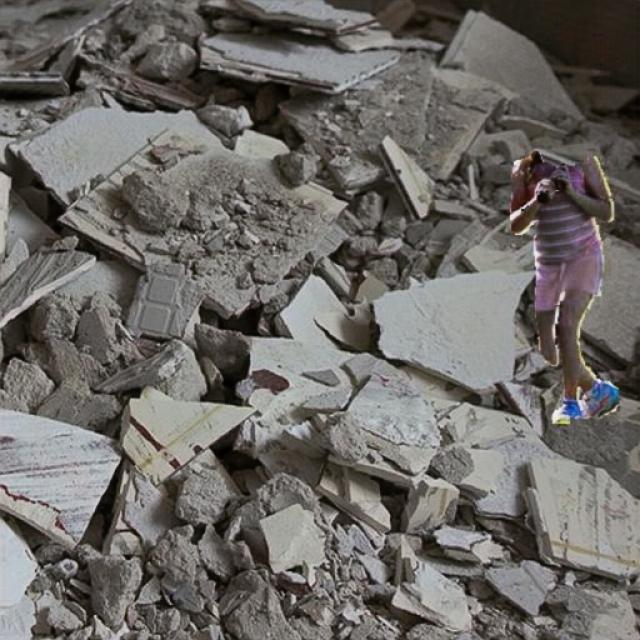Person in Rubble: (510, 148, 618, 422)
